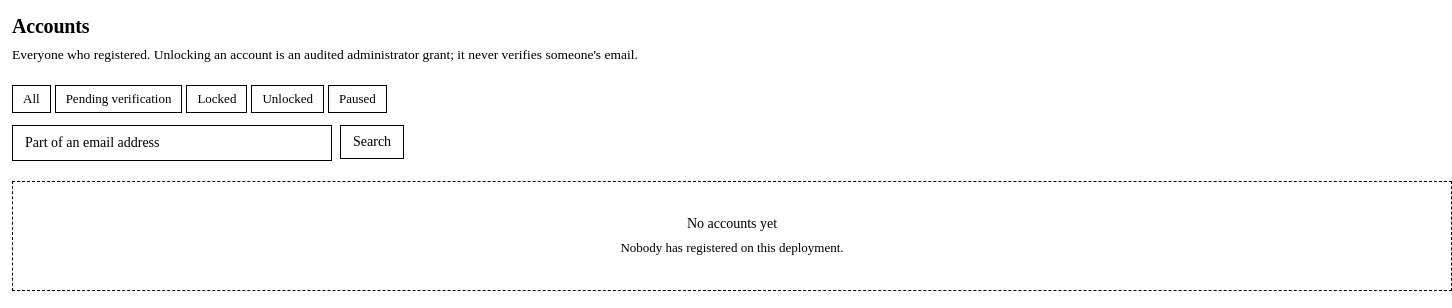
the account list (admin_accounts.md) › searches by email and explains when nothing matches
Type "nobody" into the search field named "Search accounts". click: [172, 143]
box: [12,125,332,161]
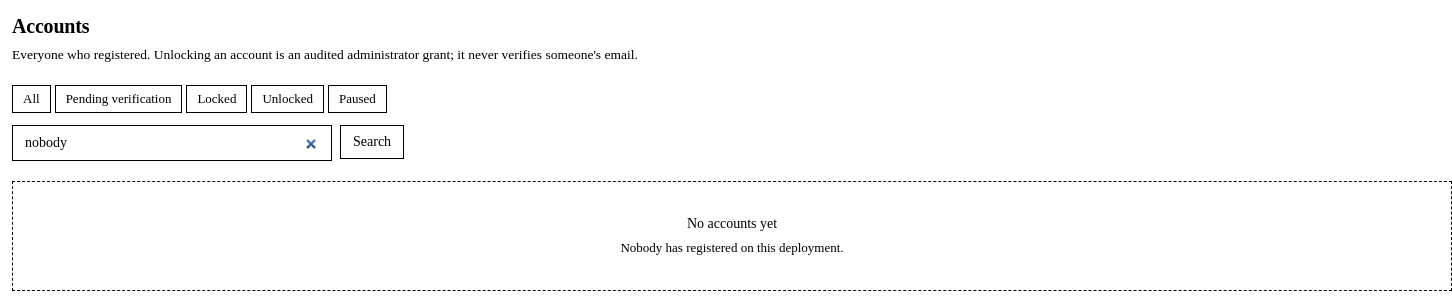
Click the button "Search". click: [372, 142]
box: [340,125,404,159]
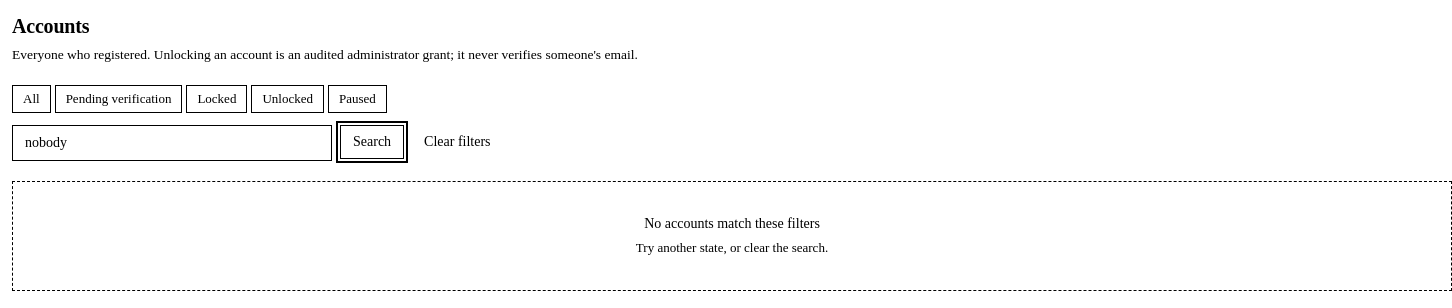
Now the text "No accounts match these filters" is shown, box [644,216,820,231]
